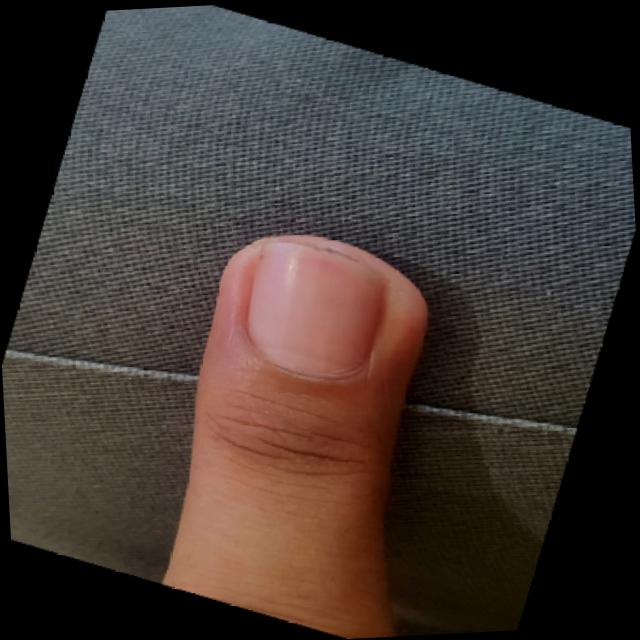Nail: (246, 240, 387, 379)
